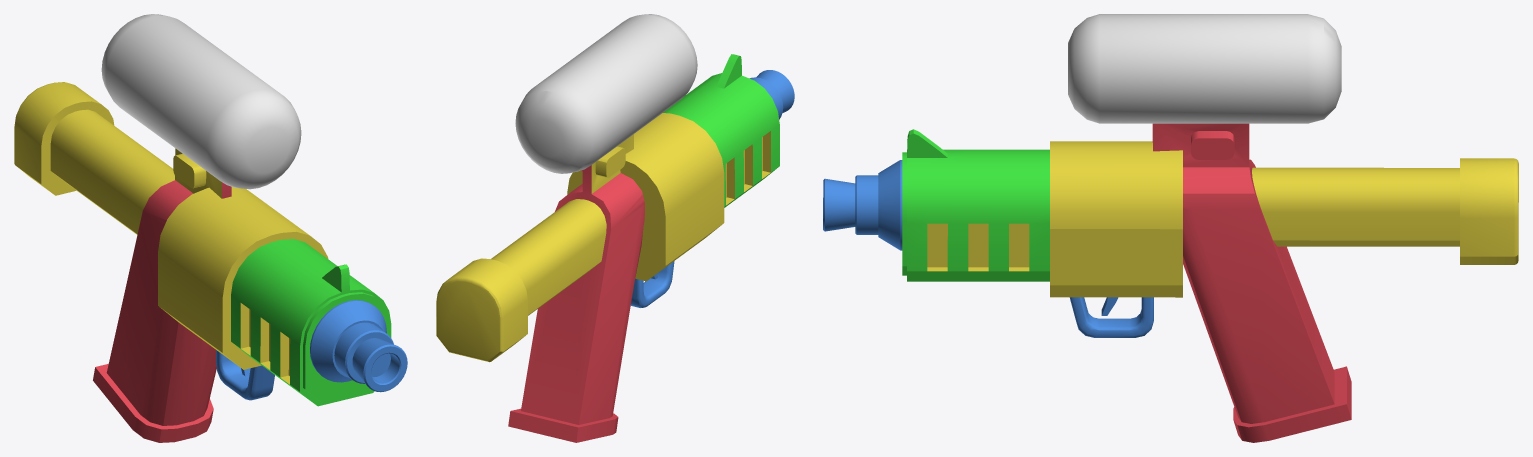
Rendered from gun.fbx.
3 views of the same model, side by side, from view 1: azimuth 30°, elevation 25°; view 2: azimuth 150°, elevation 25°; view 3: azimuth 270°, elevation 25° (orthographic). The views are drawn at different scales.
Parts seen in each view (by area): view 1: gun; view 2: gun; view 3: gun.
Part boxes in pixels (x1=…): gun: x1=14, y1=14, x2=407, y2=442; gun: x1=436, y1=14, x2=794, y2=442; gun: x1=823, y1=14, x2=1518, y2=442.
Size of the model in its own units: 35.73 by 126 by 193.
